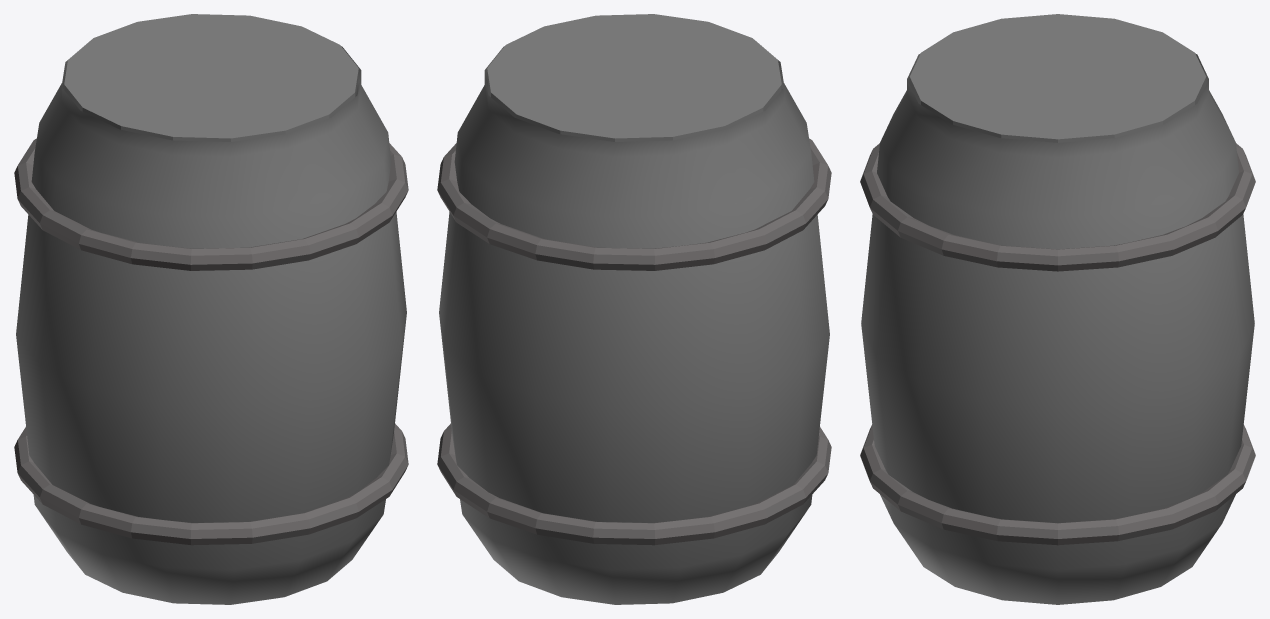
File: barrel.glb
3 renders of one model, left to right at view 1: azimuth 30°, elevation 25°; view 2: azimuth 150°, elevation 25°; view 3: azimuth 270°, elevation 25°, orthographic.
Parts seen in each view (by area): view 1: body, top, band, band.001; view 2: body, top, band, band.001; view 3: body, top, band, band.001.
Part boxes in pixels (x1,y1,x2,y2): body: (16,41,406,604); top: (64,14,358,141); band: (14,138,408,270); band.001: (14,423,408,545); body: (439,41,829,604); top: (487,14,781,141); band: (437,138,831,270); band.001: (437,423,831,545); body: (861,53,1254,604); top: (909,14,1206,142); band: (860,143,1255,271); band.001: (860,424,1255,545).
Bounding box in the file's own units: 0.734 × 0.955 × 0.734.
Materials: 3 (2 with a texture image).
